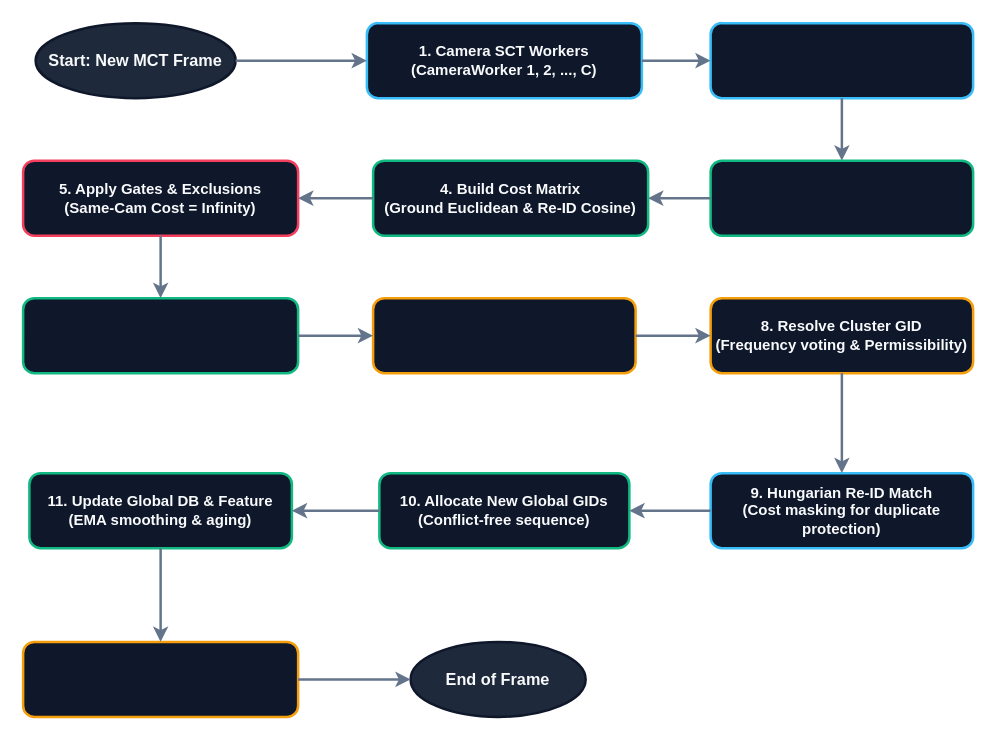
Image size: 995x739. Some labels were removed from this diagram. Each missing label, with the centre of its shape:
"12. Sync MOT15 & Vis Grid (Write camX_mct.txt & render)" goes at point 160,679.
"2. Flatten Active Tracks (Cam ID, Local PID, Feature)" goes at point 841,60.
"3. Homography Projection (Feet points to Ground Plane)" goes at point 841,197.
"6. Union-Find Clustering (Same-Camera root constraints)" goes at point 160,335.
"7. Gather Static GID Locks (Current & Historical Frame Memory)" goes at point 503,335.
